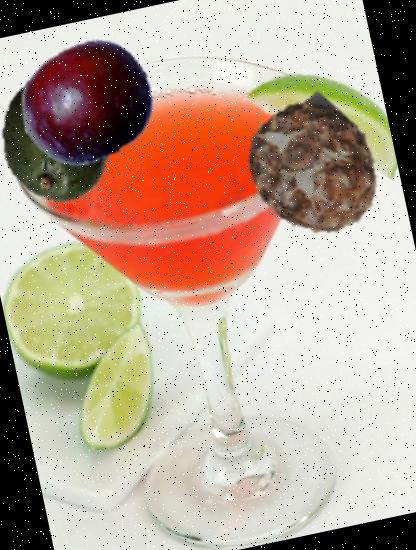Avocado: (0, 63, 137, 214)
Pineapple: (230, 84, 398, 252)
Plum: (6, 22, 167, 183)
